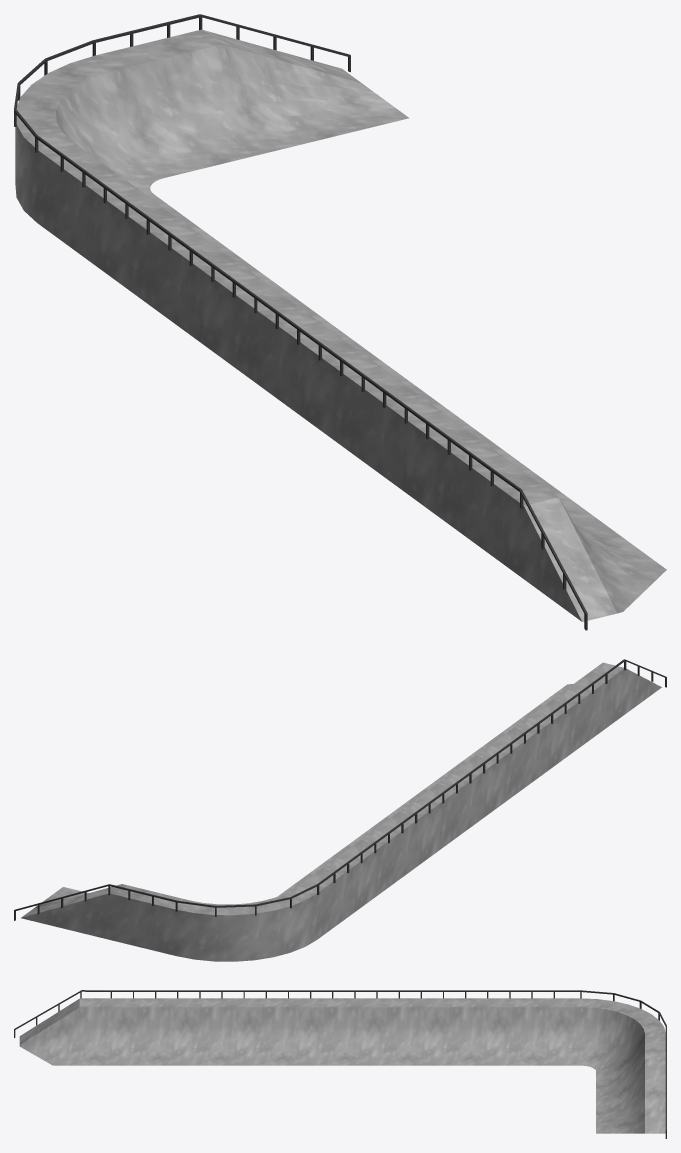
Rendered from CornerRamp.fbx.
The picture shows the model from 3 angles, top to bottom: view 1: azimuth 30°, elevation 25°; view 2: azimuth 150°, elevation 25°; view 3: azimuth 270°, elevation 25°; orthographic projection. The views are drawn at different scales.
Visible parts, largest first — view 1: CornerRamp; view 2: CornerRamp; view 3: CornerRamp.
Part boxes in pixels (bbox=[...]): CornerRamp: bbox=[14, 14, 666, 630]; CornerRamp: bbox=[14, 659, 666, 961]; CornerRamp: bbox=[14, 990, 666, 1138].
Size of the model in its own units: 1134 by 257 by 3126.
